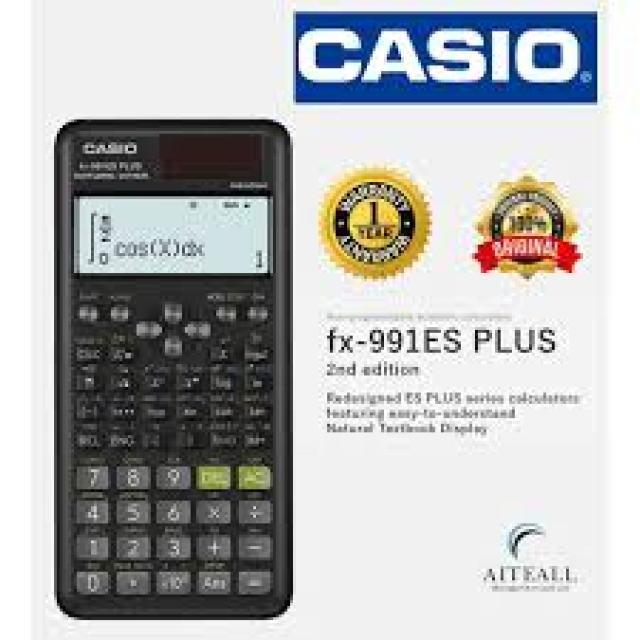Calculator: (52, 106, 308, 630)
